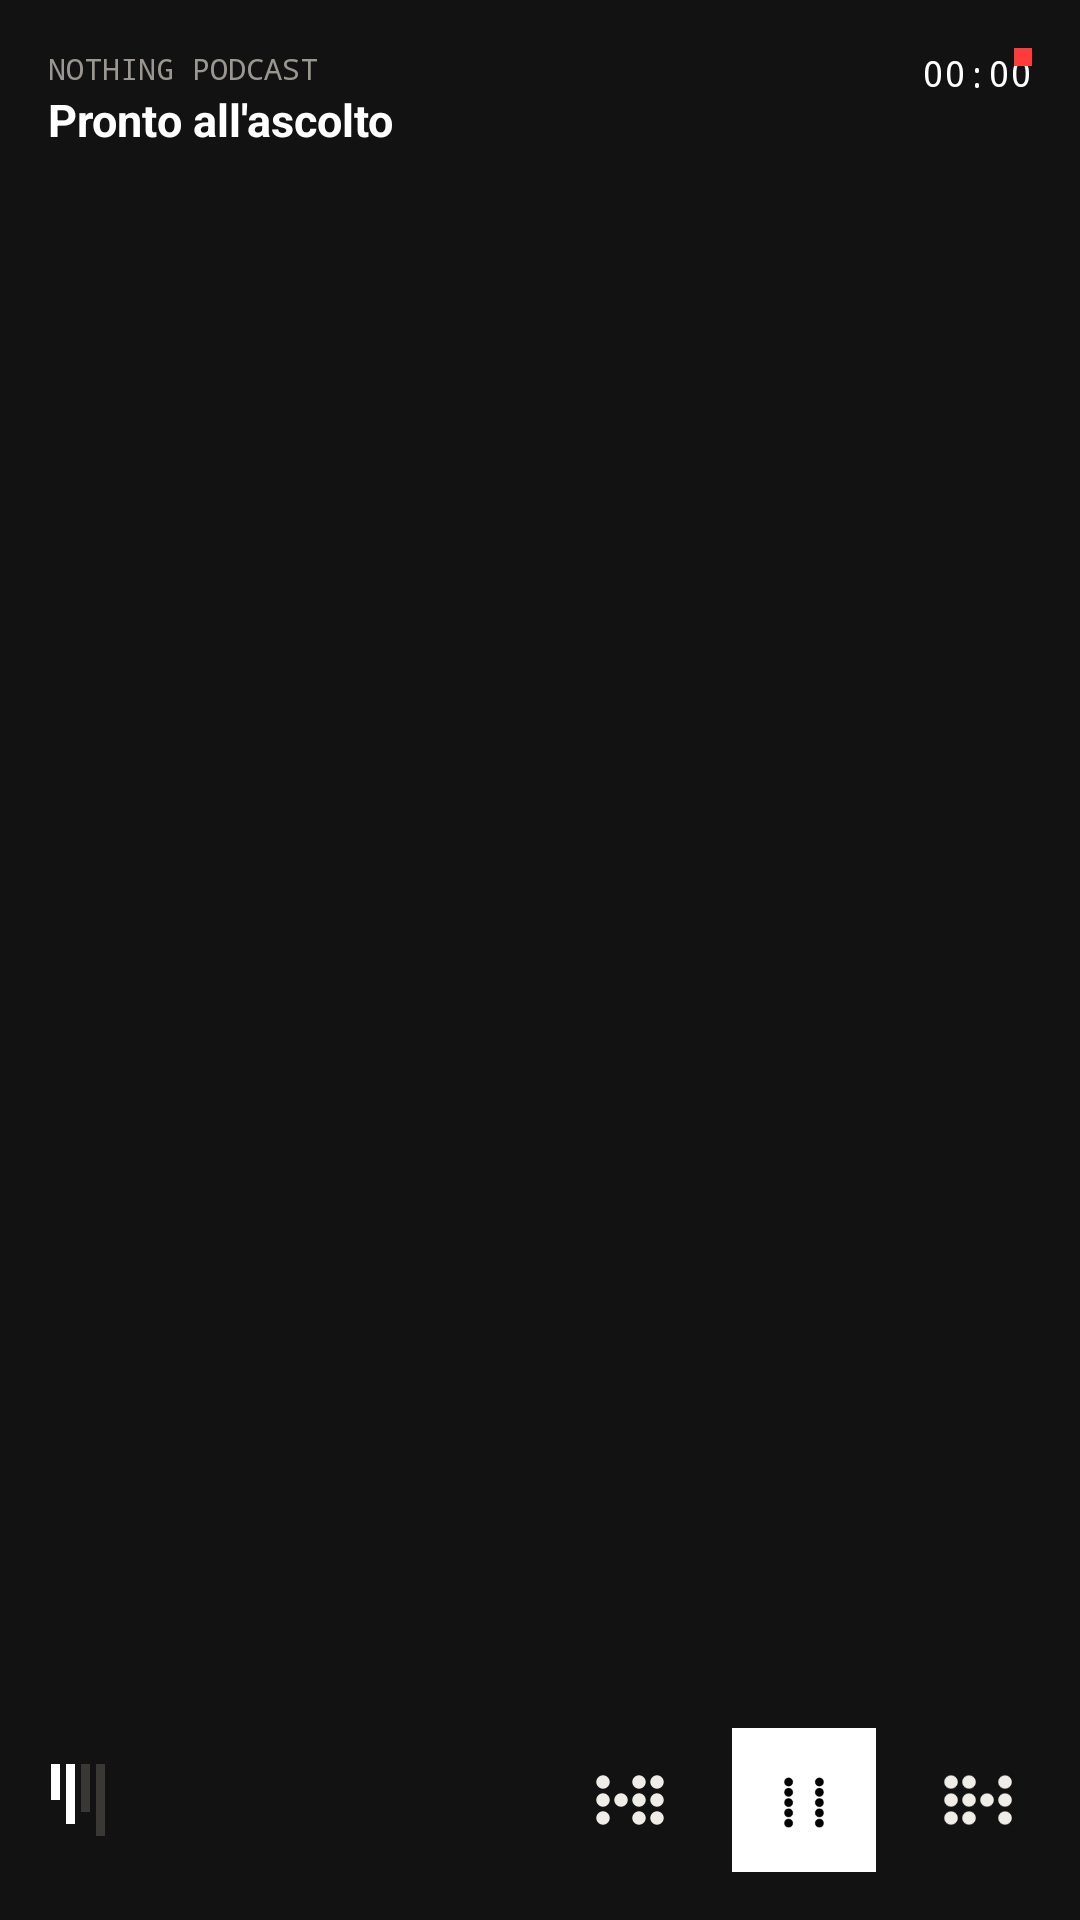

Icons on this 1080w x 1920h Android screen, each with the point to tap as [x,y]:
nothing pause: [804,1802]
nothing skip back: [630,1800]
nothing skip forward: [978,1800]
